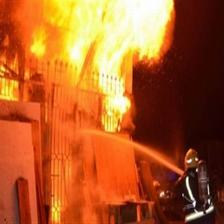fire: (1, 1, 181, 82), (51, 31, 148, 131)
